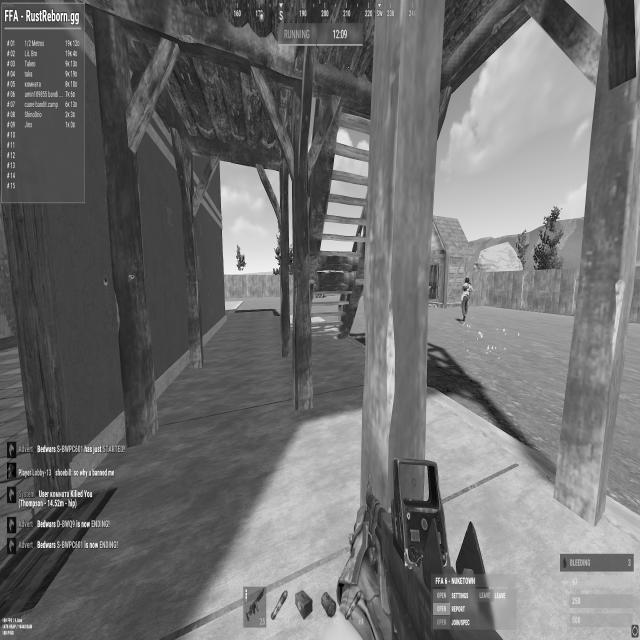Player: (460, 275, 473, 323), (464, 275, 470, 284)
